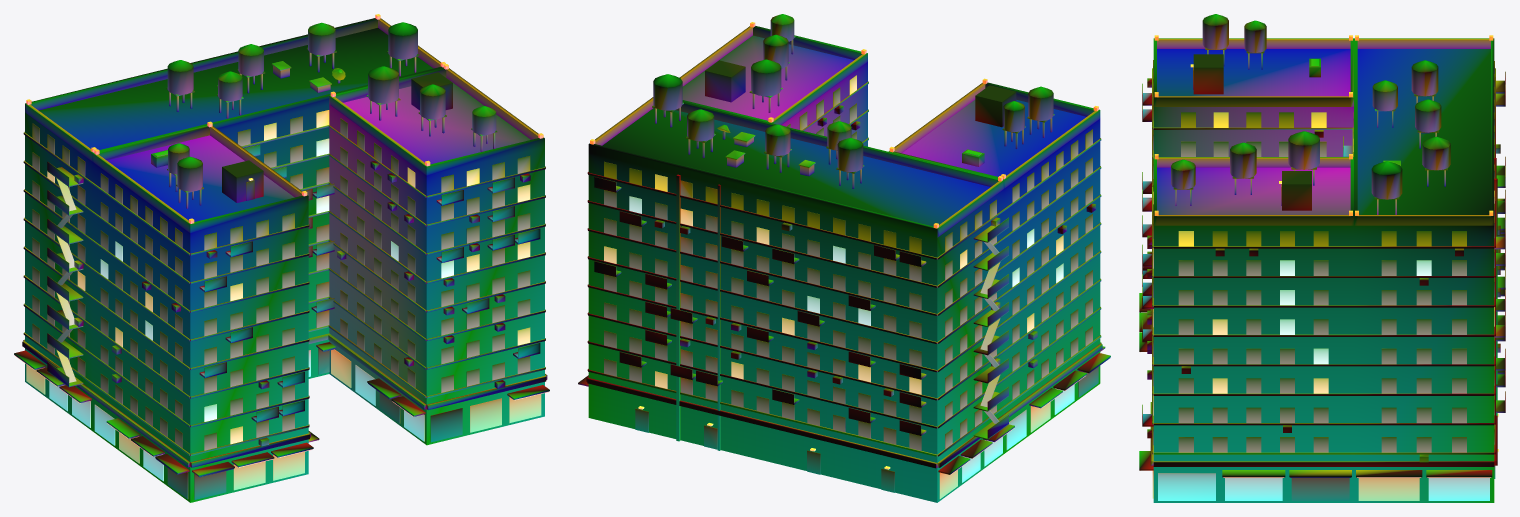
Rendered from Block_Court_V3.fbx.
The picture shows the model from 3 angles, left to right: view 1: azimuth 30°, elevation 25°; view 2: azimuth 150°, elevation 25°; view 3: azimuth 270°, elevation 25°; orthographic projection. The views are drawn at different scales.
Parts seen in each view (by area): view 1: Block_Court_V3_LOD0; view 2: Block_Court_V3_LOD0; view 3: Block_Court_V3_LOD0.
Boxes of the visible parts, x1,y1,x2,y2 form: Block_Court_V3_LOD0: [14, 14, 549, 502]; Block_Court_V3_LOD0: [578, 14, 1110, 502]; Block_Court_V3_LOD0: [1139, 14, 1505, 502].
Size of what is drawn, in the model's own units: 45.1 by 35.97 by 36.5.
